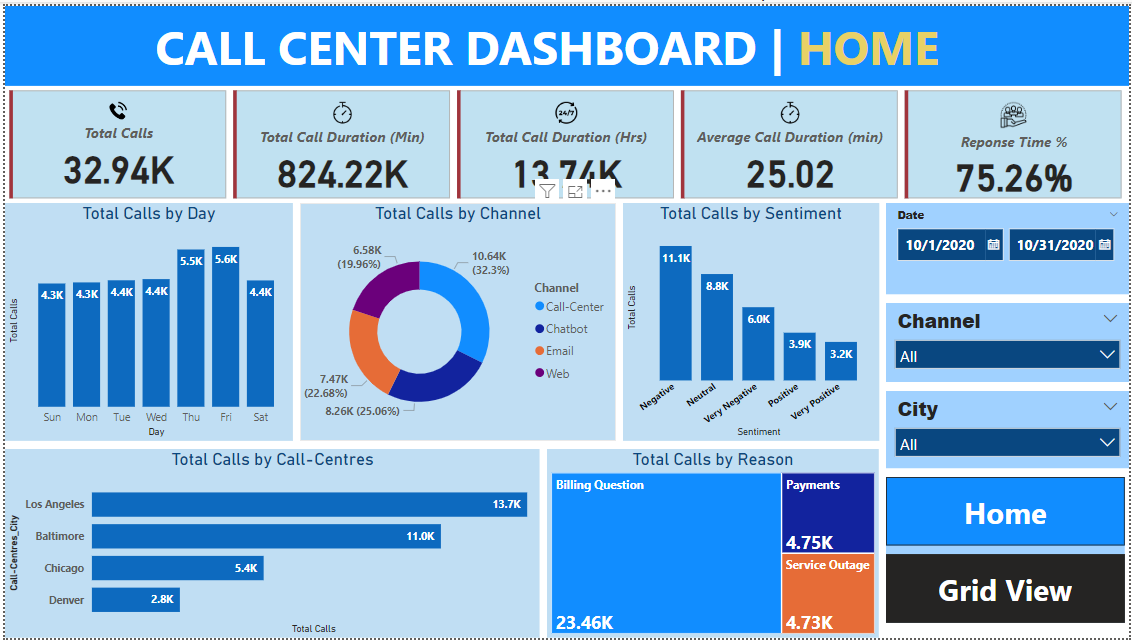

This screenshot's page, from the dashboard's own definition file:
{"tool":"powerbi","page":{"name":"Home","canvas":[1280,720],"ordinal":0},"visuals":[{"type":"cardVisual","fields":{"Data":["Call_Center_Converted.Total Calls","Call_Center_Converted.Total Call Duration (Min)","Call_Center_Converted.Total Call Duration (Hrs)","Call_Center_Converted.Average Call Duration (min)","Call_Center_Converted.Reponse Time %"]},"box":[0,90.8,1280,133.2],"z":0},{"type":"shape","box":[0,0,1280.5,91.1],"z":1000},{"type":"textbox","box":[124.2,4.6,986.6,80.9],"z":2000},{"type":"columnChart","fields":{"Category":["Date Table.Day"],"Y":["Call_Center_Converted.Total Calls"]},"box":[0,224.4,328.1,271.1],"z":3000},{"type":"treemap","fields":{"Group":["Call_Center_Converted.Reason"],"Values":["Call_Center_Converted.Total Calls"]},"box":[617.5,504.7,378.2,215.3],"z":4000},{"type":"donutChart","fields":{"Category":["Call_Center_Converted.Channel"],"Y":["Call_Center_Converted.Total Calls"]},"box":[336.1,224.4,360,271.1],"z":5000},{"type":"columnChart","fields":{"Category":["Call_Center_Converted.Sentiment"],"Y":["Call_Center_Converted.Total Calls"]},"box":[704.1,224.4,291.6,271.1],"z":6000},{"type":"barChart","title":"Total Calls by Call-Centres","fields":{"Y":["Call_Center_Converted.Total Calls"],"Category":["Call_Center_Converted.Call-Centres_City"]},"box":[0,504.7,609.5,215.3],"z":7000},{"type":"slicer","fields":{"Values":["Date Table.Date"]},"box":[1003.7,224.4,276.8,103.7],"z":8000},{"type":"slicer","fields":{"Values":["Call_Center_Converted.Channel"]},"box":[1003.7,338.4,276.8,90],"z":9000},{"type":"slicer","fields":{"Values":["Call_Center_Converted.City"]},"box":[1003.7,438.6,276.8,87.7],"z":10000},{"type":"pageNavigator","box":[1003.7,536.6,272.3,166.3],"z":11001}]}

Visuals, with their boxes in screenshot pixels (x1, y1, x2, y2), scaled from the page's 1280x720 canvas onto the 1132x640 screenshot:
cardVisual - Call_Center_Converted.Total Calls x Call_Center_Converted.Total Call Duration (Min): <region>0, 81, 1131, 199</region>
shape: <region>0, 0, 1131, 81</region>
textbox: <region>110, 4, 982, 76</region>
columnChart - Date Table.Day x Call_Center_Converted.Total Calls: <region>0, 199, 290, 440</region>
treemap - Call_Center_Converted.Reason x Call_Center_Converted.Total Calls: <region>546, 449, 881, 639</region>
donutChart - Call_Center_Converted.Channel x Call_Center_Converted.Total Calls: <region>297, 199, 616, 440</region>
columnChart - Call_Center_Converted.Sentiment x Call_Center_Converted.Total Calls: <region>623, 199, 881, 440</region>
"Total Calls by Call-Centres" barChart: <region>0, 449, 539, 639</region>
slicer - Date Table.Date: <region>888, 199, 1131, 292</region>
slicer - Call_Center_Converted.Channel: <region>888, 301, 1131, 381</region>
slicer - Call_Center_Converted.City: <region>888, 390, 1131, 468</region>
pageNavigator: <region>888, 477, 1128, 625</region>
